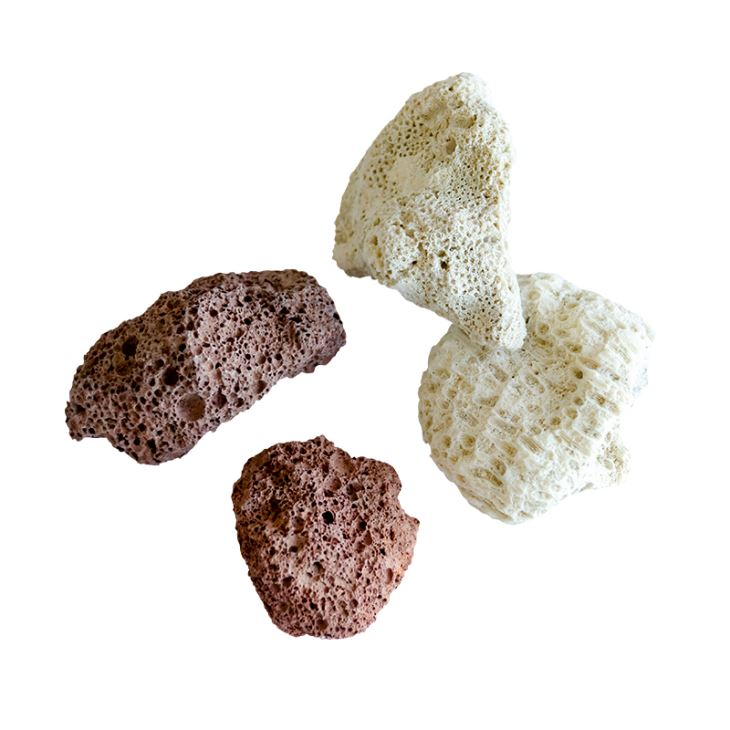volcanic_rock: (315, 63, 547, 362), (413, 260, 671, 518), (39, 260, 342, 455), (228, 441, 431, 662)
